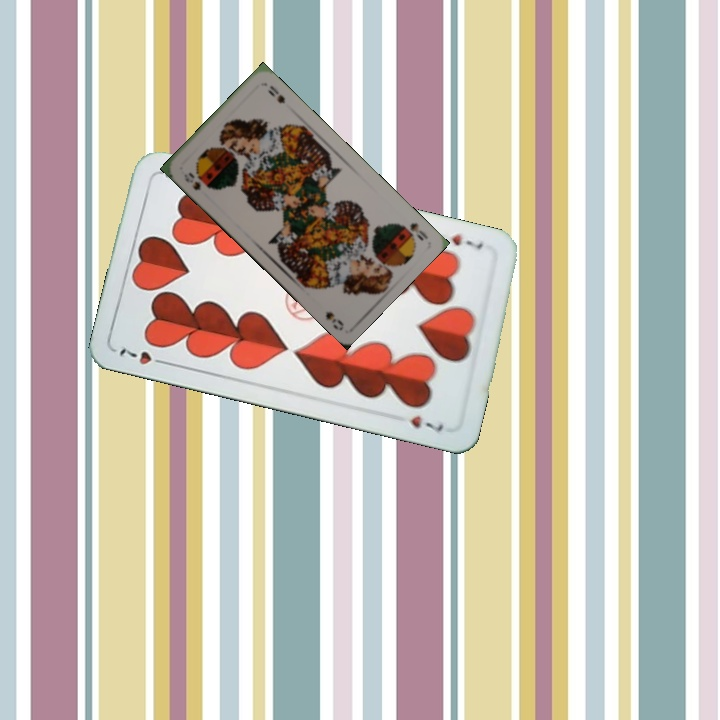H7: (115, 344, 171, 368), (447, 230, 486, 253)
SO: (406, 218, 431, 243), (180, 168, 203, 193)
